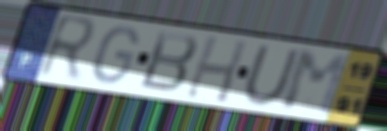B: (136, 28, 202, 95)
G: (89, 25, 141, 86)
H: (182, 33, 251, 105)
M: (279, 49, 353, 119)
R: (34, 12, 101, 85)
U: (241, 44, 303, 109)
